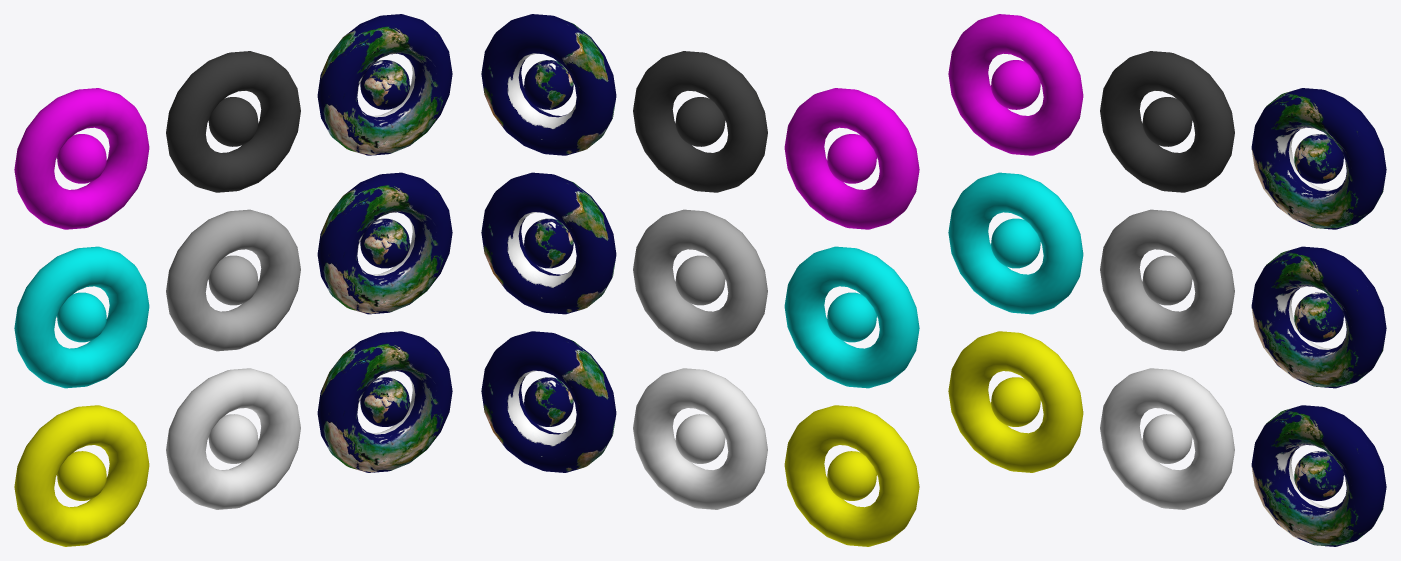
File: ShaderTesters6.fbx
The picture shows the model from 3 angles, left to right: view 1: azimuth 30°, elevation 25°; view 2: azimuth 150°, elevation 25°; view 3: azimuth 330°, elevation 25°; orthographic projection.
Parts seen in each view (by area): view 1: pSphere41; view 2: pSphere41; view 3: pSphere41.
Boxes of the visible parts, x1,y1,x2,y2 form: pSphere41: (14,14,452,546); pSphere41: (481,14,919,546); pSphere41: (948,14,1386,546).
Size of the model in its own units: 10 by 10 by 1.
